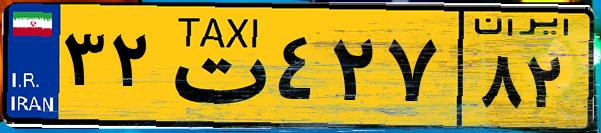2: (330, 28, 385, 110), (525, 38, 570, 115), (110, 28, 158, 98)
3: (57, 26, 110, 100)
4: (270, 28, 330, 110)
7: (385, 28, 445, 110)
8: (475, 38, 525, 113)
ت: (158, 12, 270, 120)
